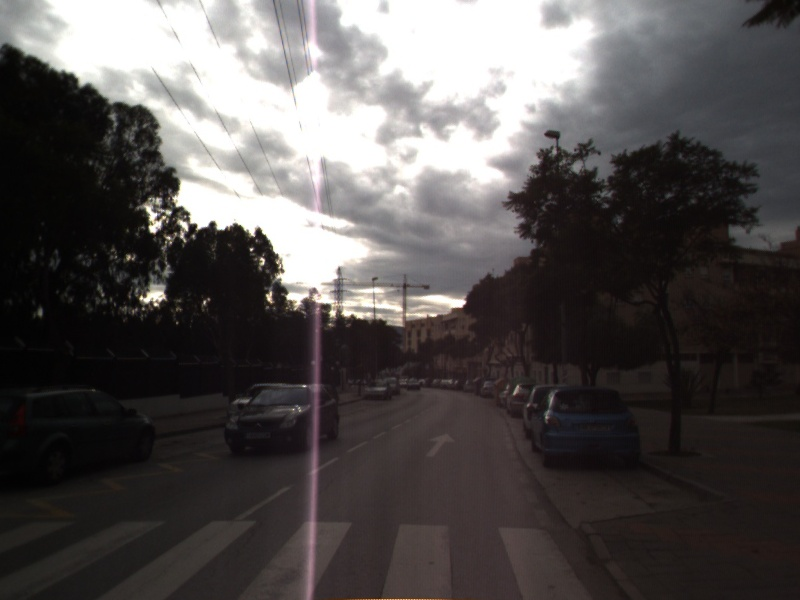STRAIGHT: (423, 430, 458, 459)
